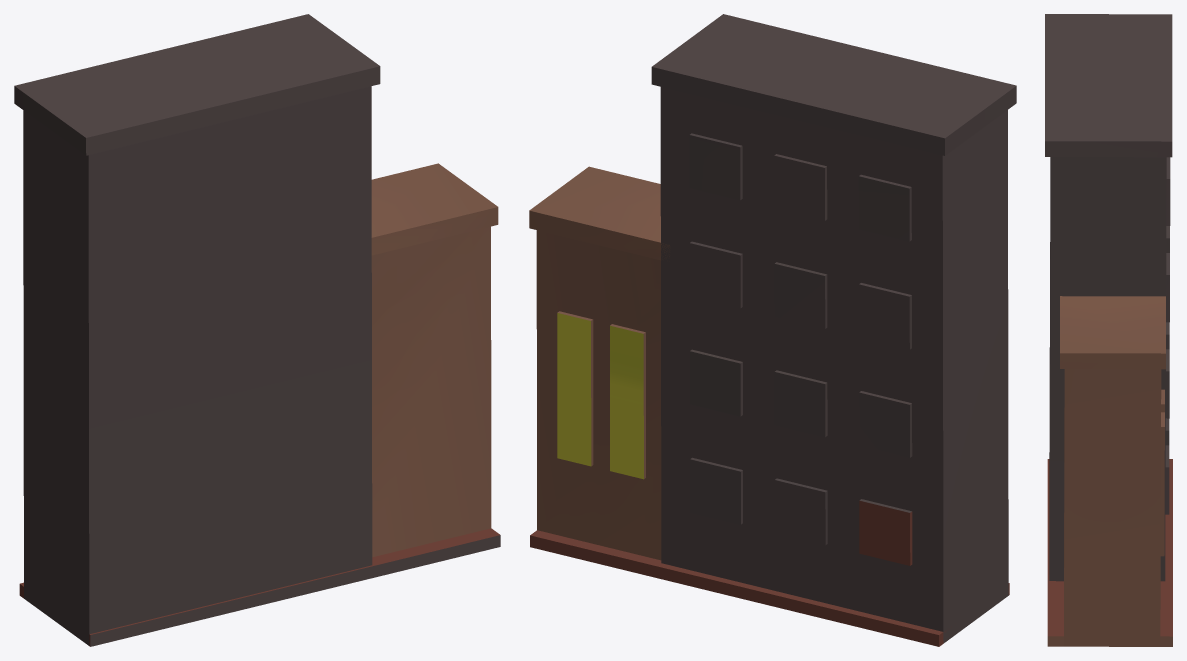
Rendered from Edificio1.fbx.
The picture shows the model from 3 angles, left to right: view 1: azimuth 30°, elevation 25°; view 2: azimuth 150°, elevation 25°; view 3: azimuth 270°, elevation 25°; orthographic projection. The views are drawn at different scales.
Visible parts, largest first — view 1: edificio_cartoon; view 2: edificio_cartoon; view 3: edificio_cartoon.
Boxes of the visible parts, x1,y1,x2,y2 form: edificio_cartoon: (14, 14, 500, 646); edificio_cartoon: (529, 14, 1016, 646); edificio_cartoon: (1045, 14, 1172, 646).
Size of the model in its own units: 446 by 518 by 133.
Materials: 1 (1 with a texture image).
